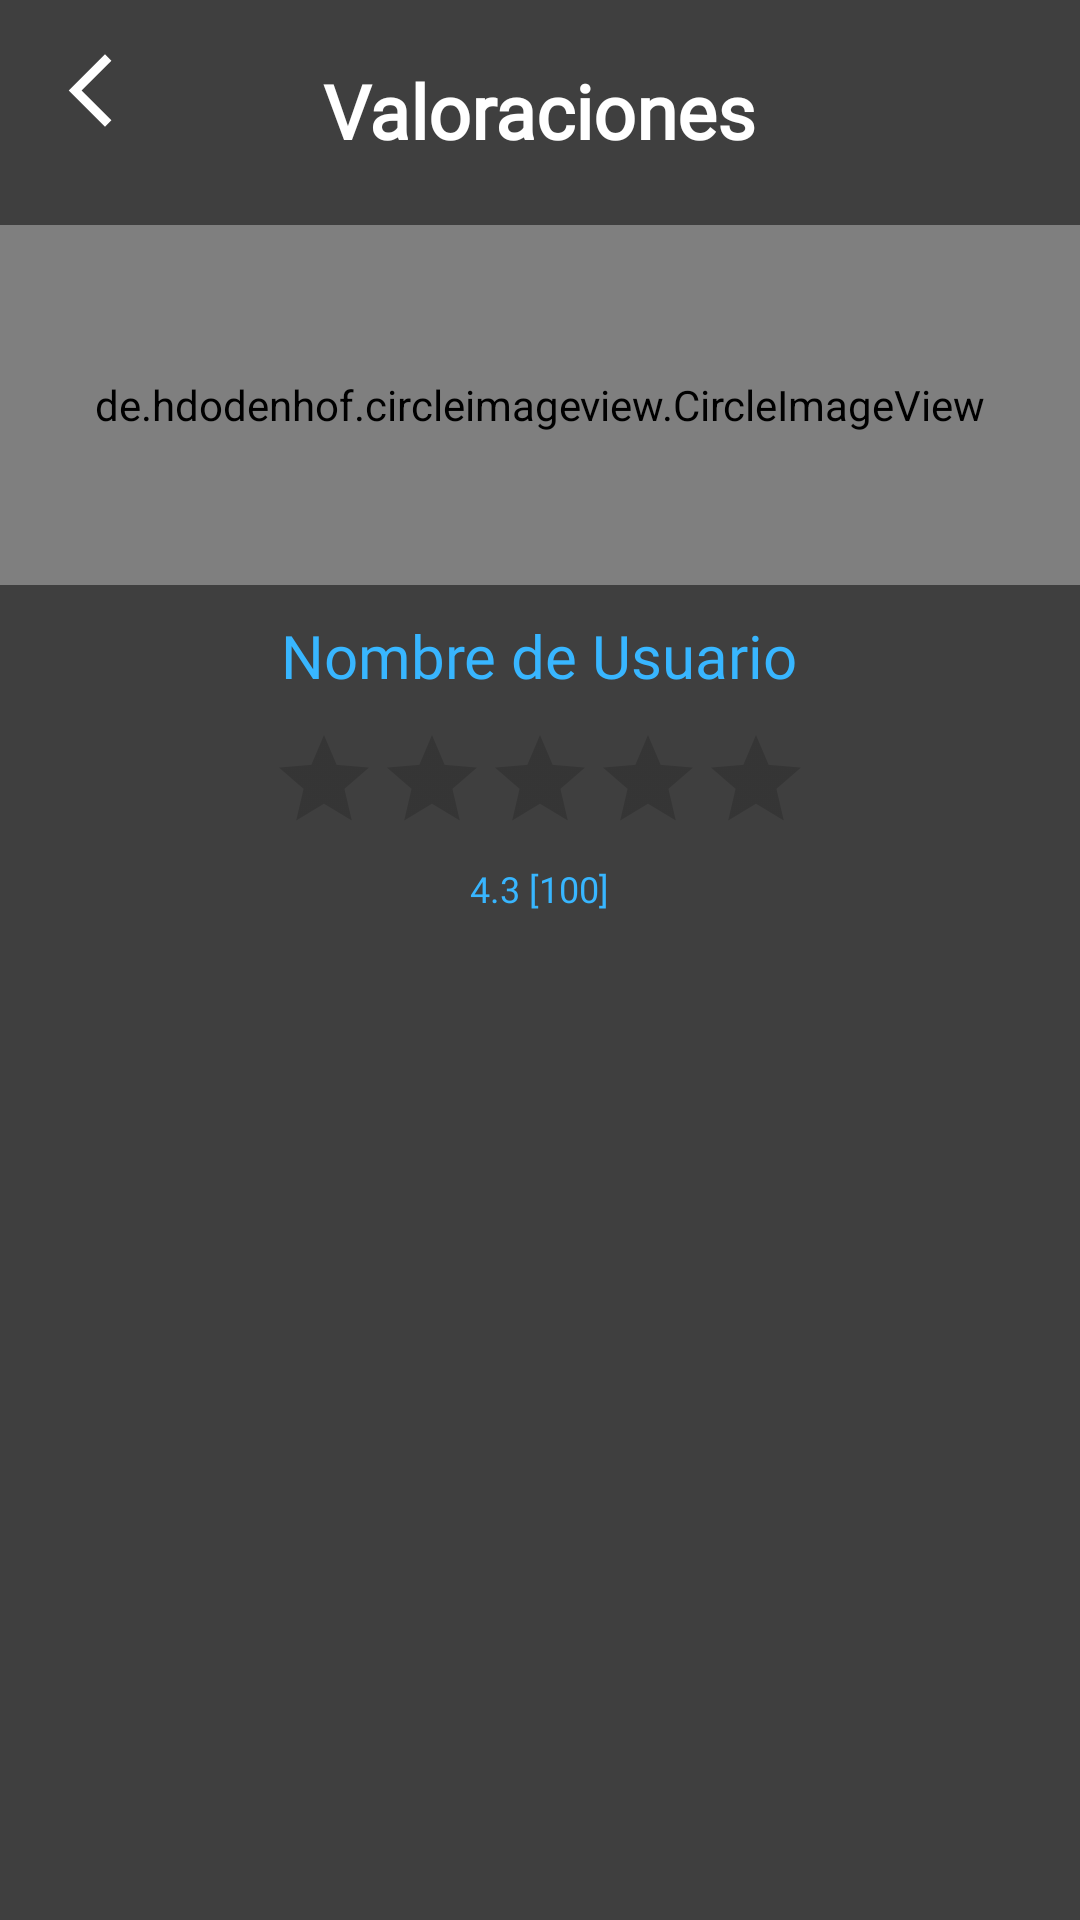

Locate icon controls on the screen. Image size 1080px x 1920px, boxes as (x1, y1, x2, y2).
step back: (69, 54, 112, 127)
